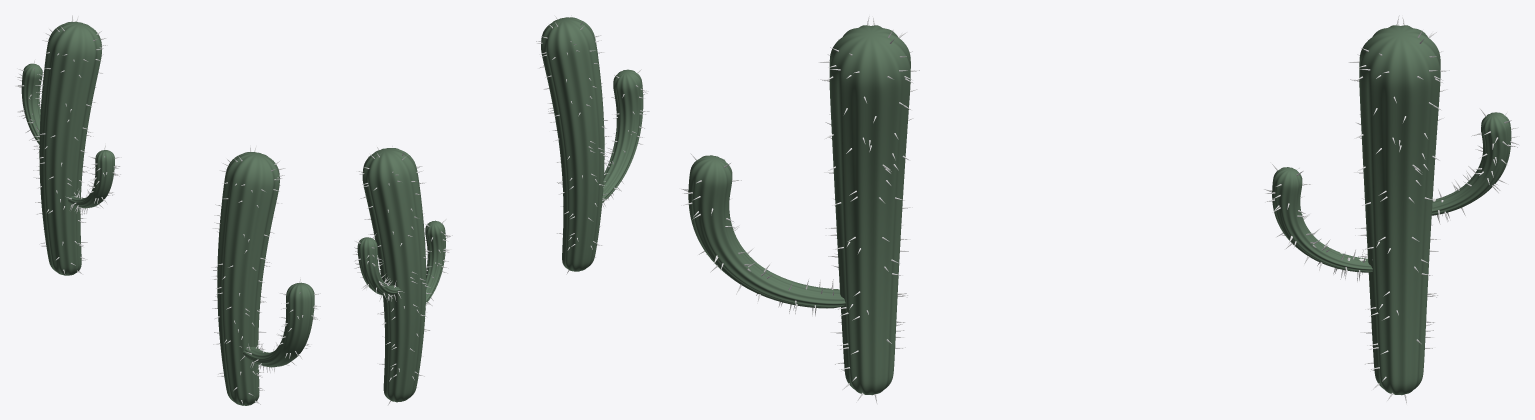
File: CuctusAssets.fbx
3 views of the same model, side by side, from view 1: azimuth 30°, elevation 25°; view 2: azimuth 150°, elevation 25°; view 3: azimuth 270°, elevation 25° (orthographic). The views are drawn at different scales.
Visible parts, largest first — view 1: Circle.002, Circle, Circle.001, Circle.004, Circle.003; view 2: Circle, Circle.002, Circle.001, Circle.003, Circle.004; view 3: Circle.002, Circle, Circle.001, Circle.003, Circle.004.
Boxes of the visible parts, x1=… form: Circle.002: x1=39, y1=21, x2=101, y2=275; Circle: x1=217, y1=152, x2=279, y2=405; Circle.001: x1=243, y1=282, x2=314, y2=367; Circle.004: x1=21, y1=63, x2=42, y2=144; Circle.003: x1=68, y1=150, x2=114, y2=208; Circle: x1=541, y1=17, x2=604, y2=271; Circle.002: x1=362, y1=148, x2=426, y2=402; Circle.001: x1=602, y1=69, x2=643, y2=202; Circle.003: x1=425, y1=220, x2=445, y2=304; Circle.004: x1=357, y1=237, x2=400, y2=295; Circle.002: x1=1359, y1=25, x2=1440, y2=395; Circle: x1=829, y1=25, x2=910, y2=395; Circle.001: x1=688, y1=155, x2=845, y2=308; Circle.003: x1=1272, y1=167, x2=1372, y2=272; Circle.004: x1=1431, y1=112, x2=1511, y2=215.
Bounding box in the file's own units: 14.36 × 51.75 × 103.
